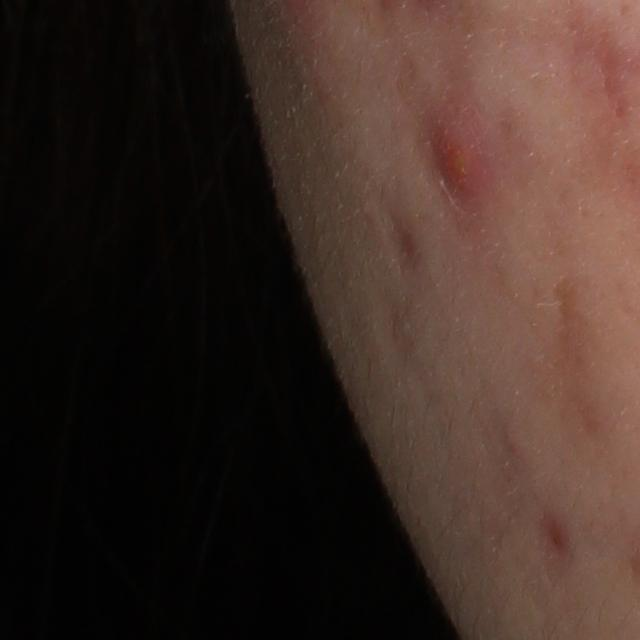atrophic_scar: (552, 281, 588, 370), (378, 198, 420, 272), (595, 37, 632, 119)
papule: (427, 120, 492, 208)
